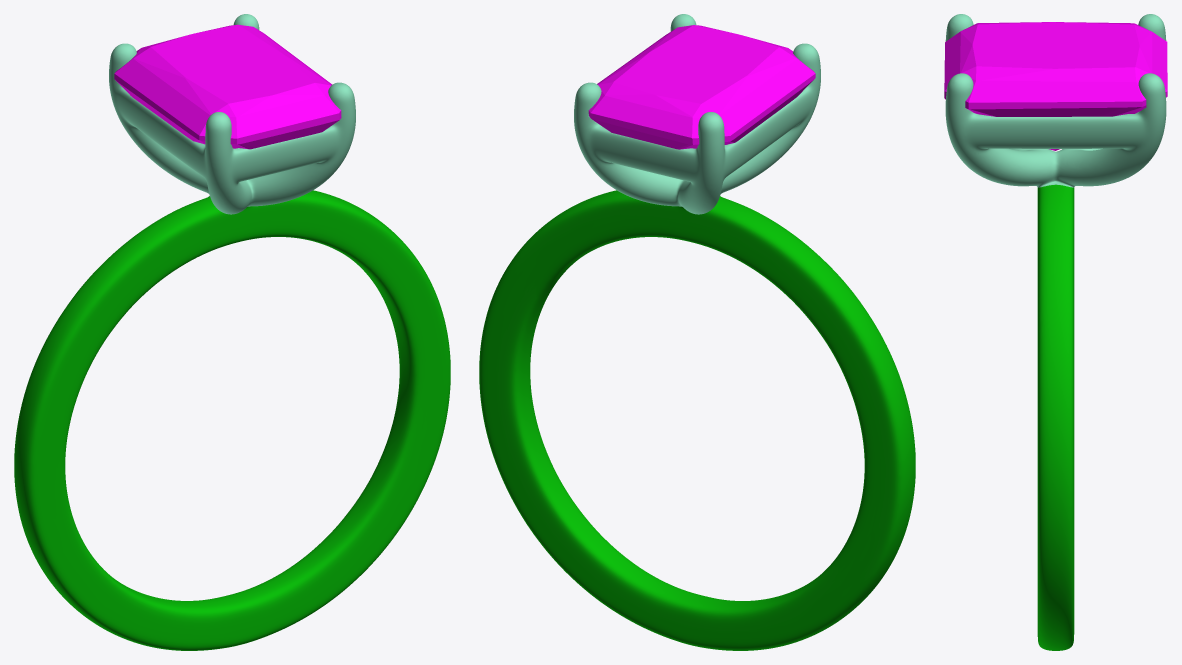
The model's file is BE14873_RA_200ct_RENDER.glb.
3 views of the same model, side by side, from view 1: azimuth 30°, elevation 25°; view 2: azimuth 150°, elevation 25°; view 3: azimuth 270°, elevation 25° (orthographic).
Parts seen in each view (by area): view 1: Metal 01, CS_Diamond_Radiant, Metal 02; view 2: Metal 01, CS_Diamond_Radiant, Metal 02; view 3: CS_Diamond_Radiant, Metal 01, Metal 02.
Part boxes in pixels (x1=…): Metal 01: x1=14, y1=190, x2=450, y2=650; CS_Diamond_Radiant: x1=114, y1=24, x2=341, y2=149; Metal 02: x1=109, y1=14, x2=355, y2=214; Metal 01: x1=479, y1=190, x2=915, y2=650; CS_Diamond_Radiant: x1=588, y1=25, x2=815, y2=149; Metal 02: x1=574, y1=14, x2=820, y2=214; CS_Diamond_Radiant: x1=944, y1=22, x2=1167, y2=150; Metal 01: x1=1037, y1=184, x2=1074, y2=650; Metal 02: x1=945, y1=14, x2=1166, y2=187.
Size of the model in its own units: 20.49 by 26.47 by 9.19.
